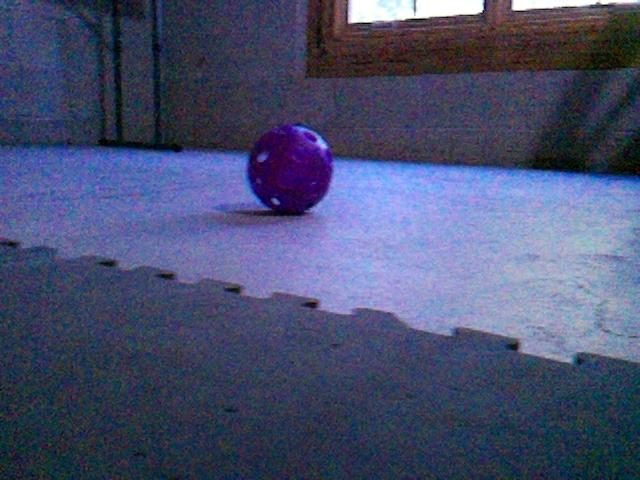Purple: (244, 122, 336, 216)
